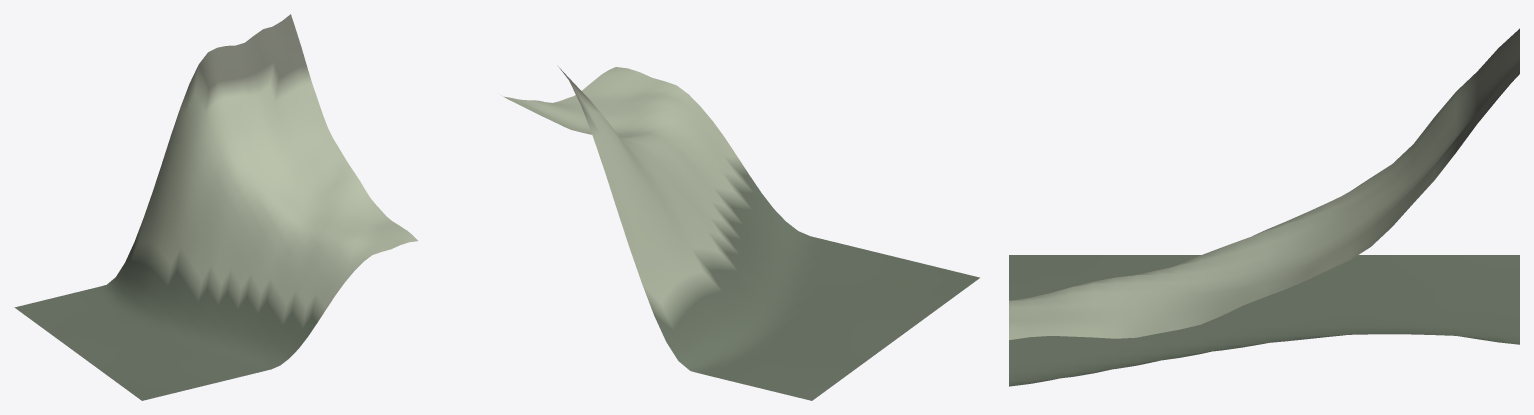
The picture shows the model from 3 angles, left to right: view 1: azimuth 30°, elevation 25°; view 2: azimuth 150°, elevation 25°; view 3: azimuth 270°, elevation 25°; orthographic projection. The views are drawn at different scales.
Visible parts, largest first — view 1: world-ground/0-24; view 2: world-ground/0-24; view 3: world-ground/0-24.
Part boxes in pixels (bbox=[...]): world-ground/0-24: bbox=[14, 14, 417, 400]; world-ground/0-24: bbox=[503, 65, 979, 400]; world-ground/0-24: bbox=[1009, 28, 1519, 386].
Bounding box in the file's own units: 37.5 × 29.29 × 30.
